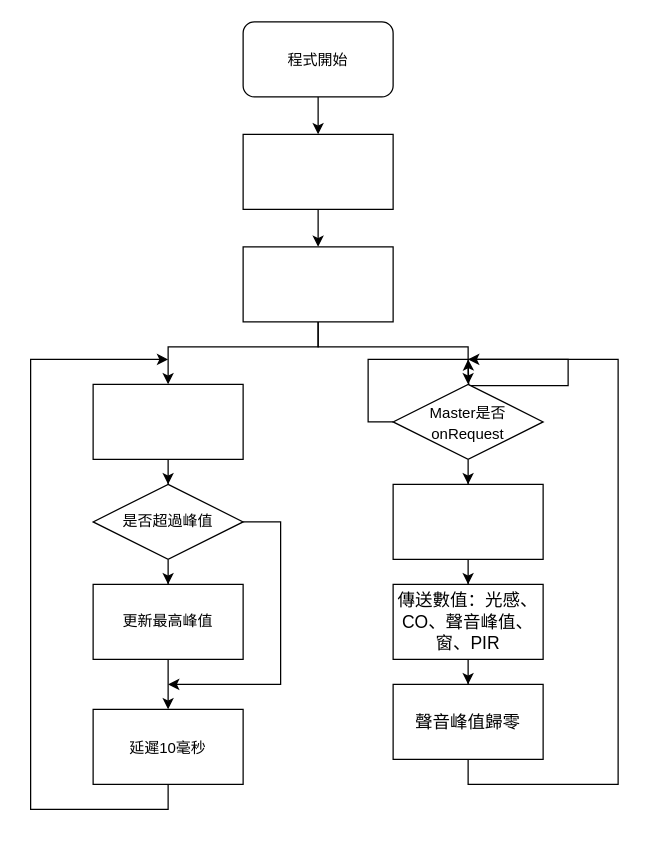
The diagram is 650 pixels wide and 841 high, and some of its shapes have lost their labels. The centre of each missing label's shape, as x and y in pixels:
"初始化：腳位、串口參數 全域變數：聲音峰值" belongs at (x=317, y=284).
"定義腳位： 窗、光感、CO、聲感峰值、PIR" belongs at (x=317, y=171).
"獲取數值：光感、CO、窗、PIR" belongs at (x=467, y=521).
"獲取聲感數值" belongs at (x=167, y=421).
